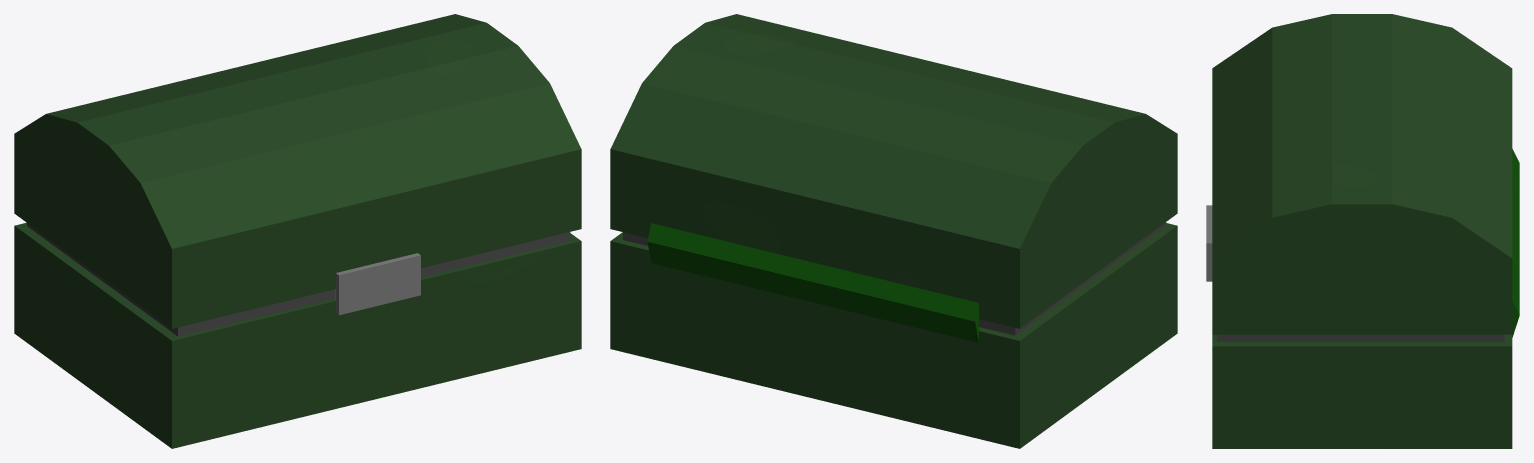
File: ammo_pistol.fbx
3 renders of one model, left to right at view 1: azimuth 30°, elevation 25°; view 2: azimuth 150°, elevation 25°; view 3: azimuth 270°, elevation 25°, orthographic. The views are drawn at different scales.
Parts seen in each view (by area): view 1: Body; view 2: Body; view 3: Body.
Part boxes in pixels (left/top/right/bottom): Body: left=14, top=14, right=581, bottom=448; Body: left=610, top=14, right=1177, bottom=448; Body: left=1206, top=14, right=1519, bottom=448.
Size of the model in its own units: 0.3 by 0.18 by 0.209.
